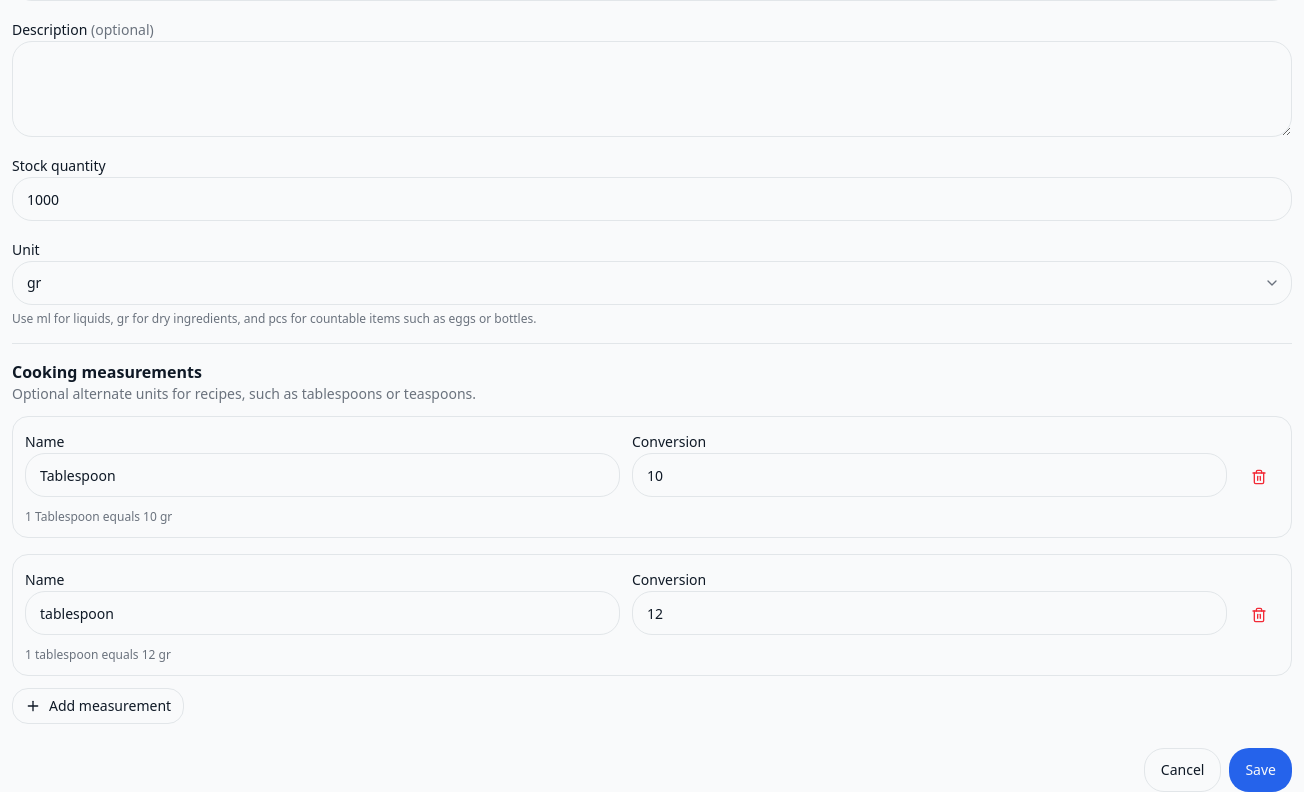
Test case: FoodSupplyForm › blocks submit when cooking measurement names are duplicated
(page scrolled)
Step 1. Click the button "Save" → point(1261, 770), box [1229, 748, 1292, 791]
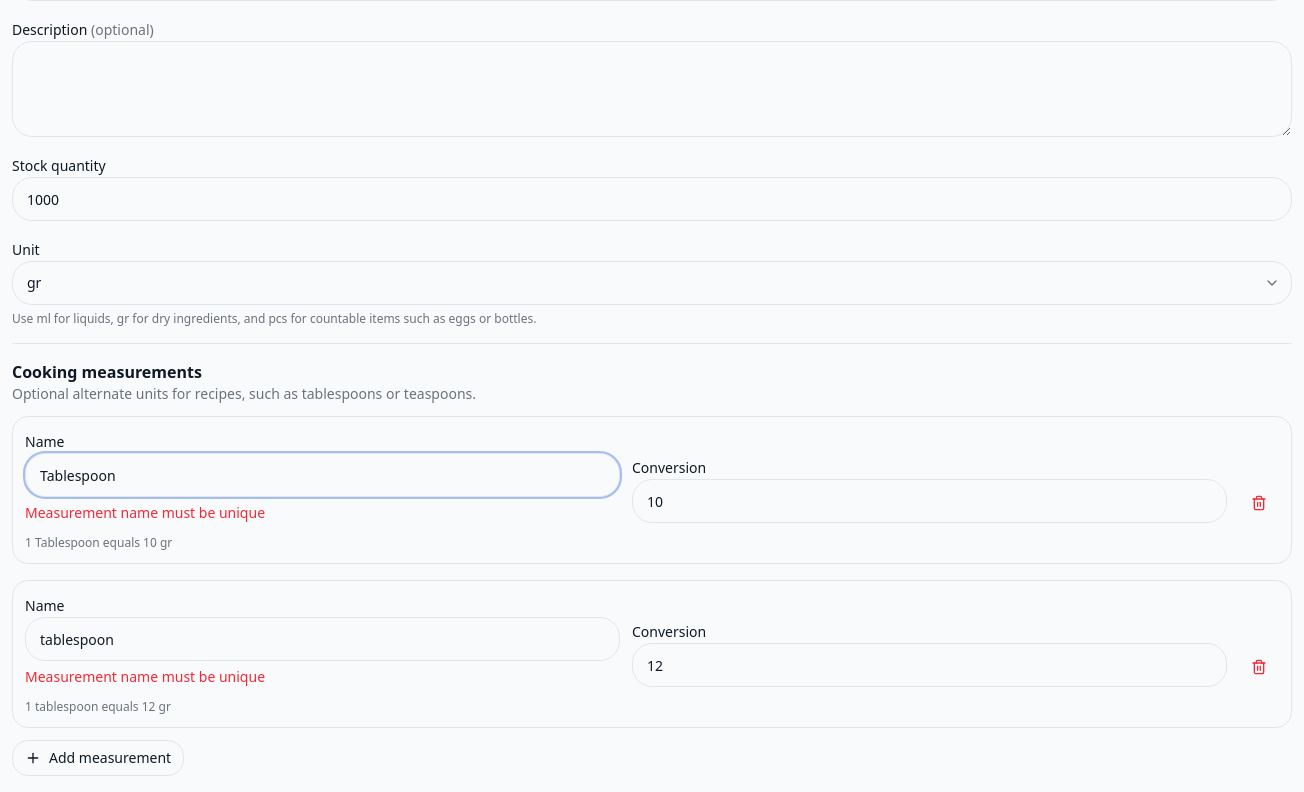
Expected: the text "Measurement name must be unique" is shown 2 times, [25, 503, 265, 522]; [25, 667, 265, 686]
